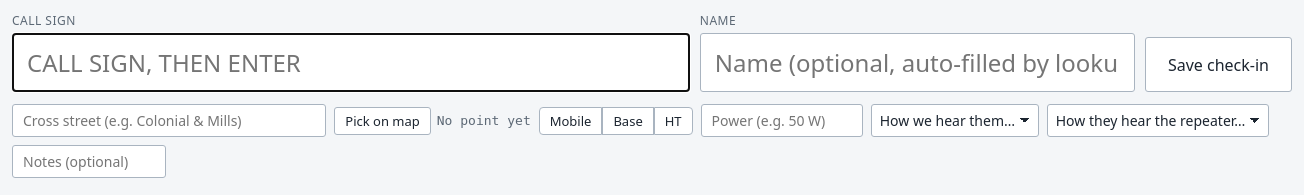
Test: CheckinEntryForm in a range check › asks for an antenna only from a base station (RANGE-012)
expect the field labelled "Antenna" is not shown: met
Click the radio button labelled "Base" at {"x": 628, "y": 120}, box [602,106,654,134]
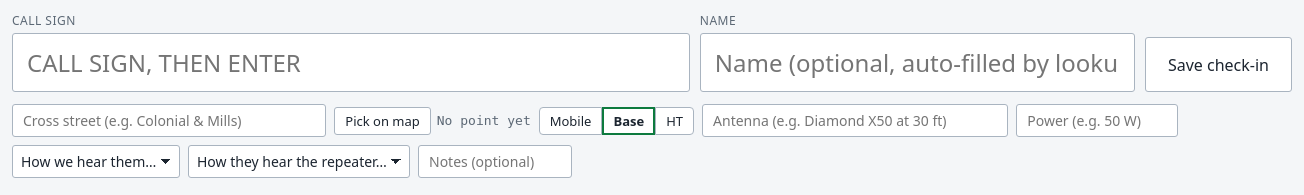
expect the field labelled "Antenna" is shown: met, box [702,104,1008,137]
Click the radio button labelled "HT" at {"x": 675, "y": 120}, box [655,106,694,134]
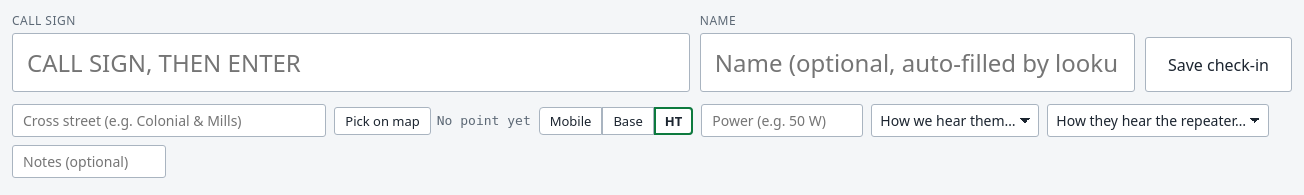
expect the field labelled "Antenna" is gone: met
